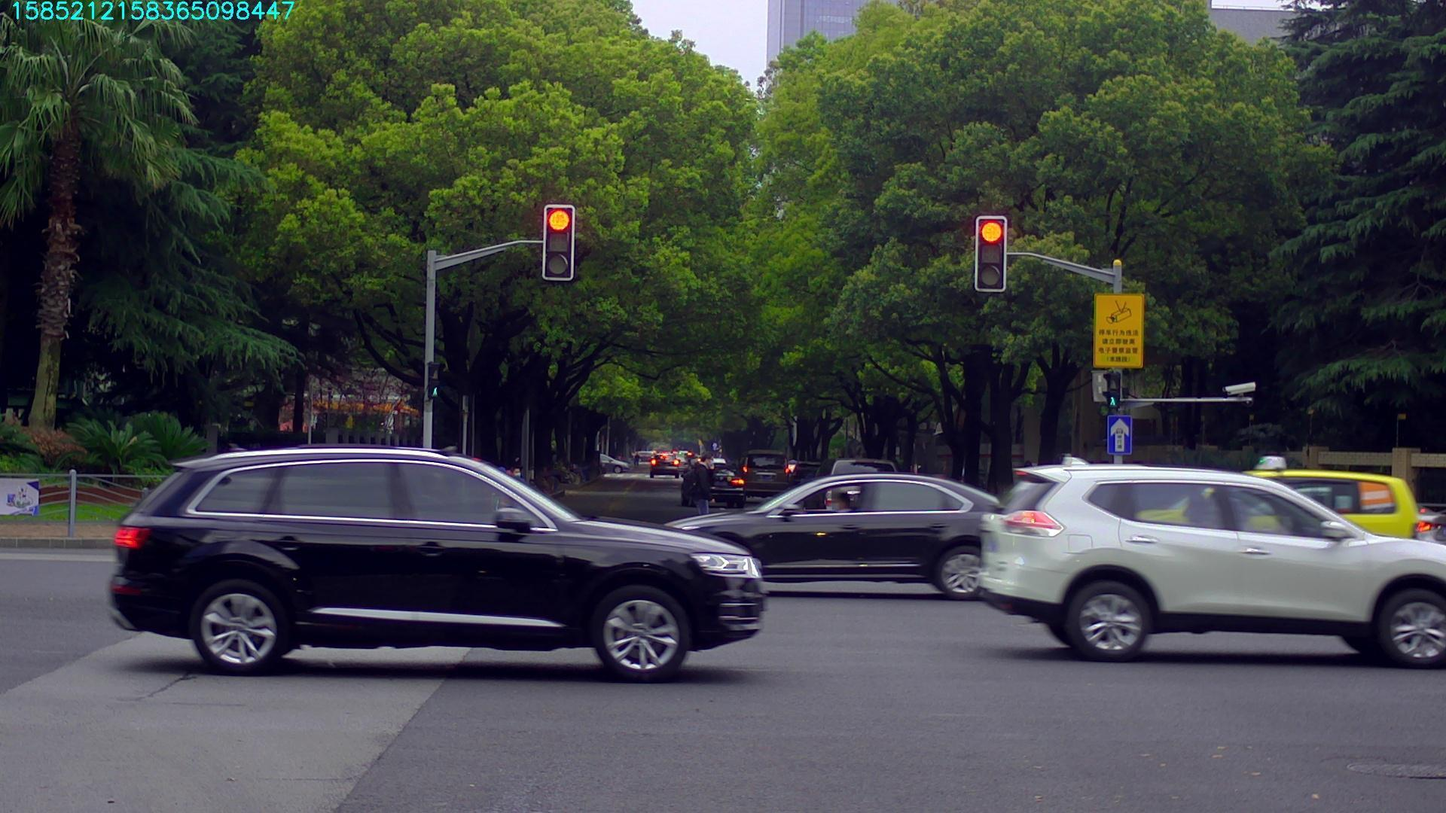red: (975, 216, 1005, 290), (545, 206, 572, 279)
